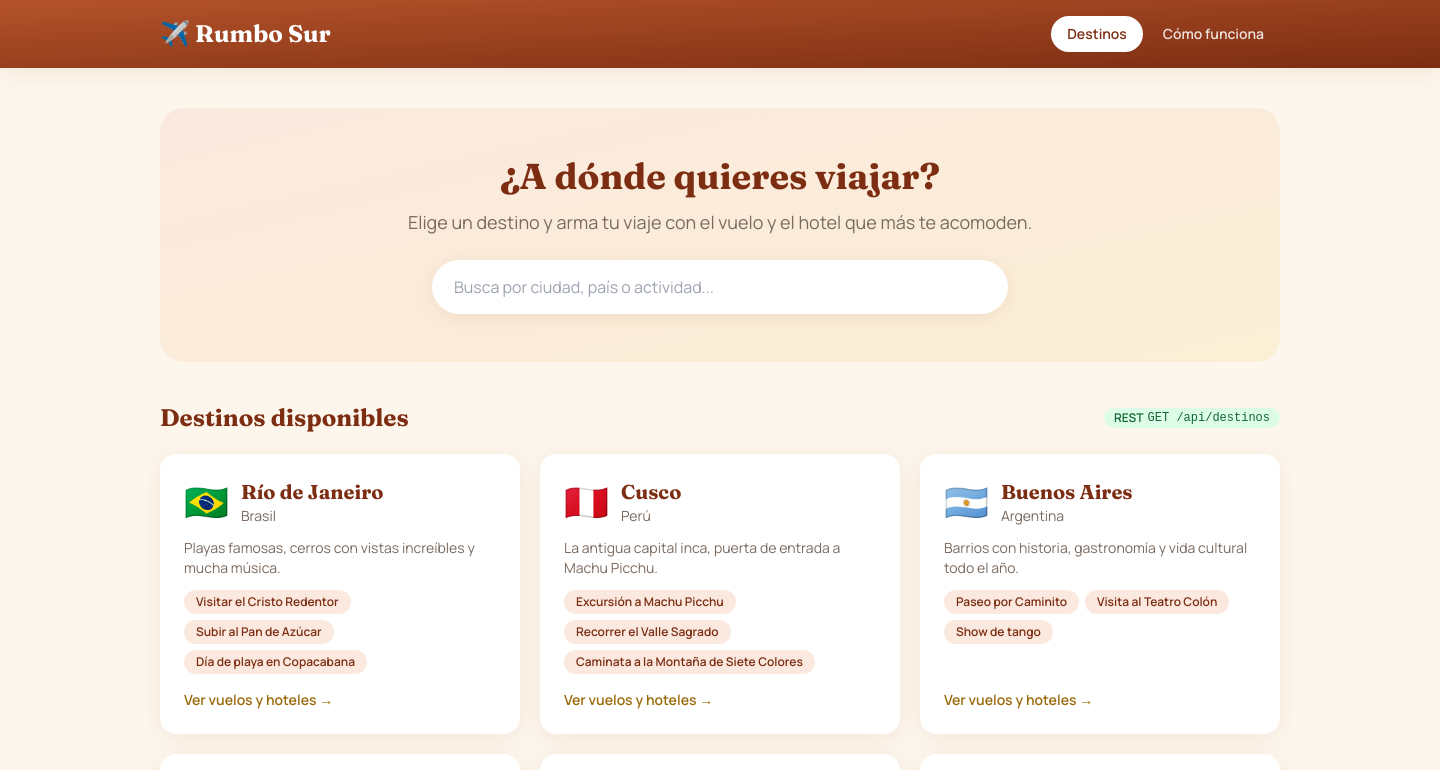
Scenario: Página Inicio (REST) › el buscador también encuentra por actividad
The image size is (1440, 770).
Check: the heading "Cusco" is shown, box [621,478,681,506]
Type "tango" into the search field named "Buscar destinos" at (720, 287), box [432,260,1008,314]
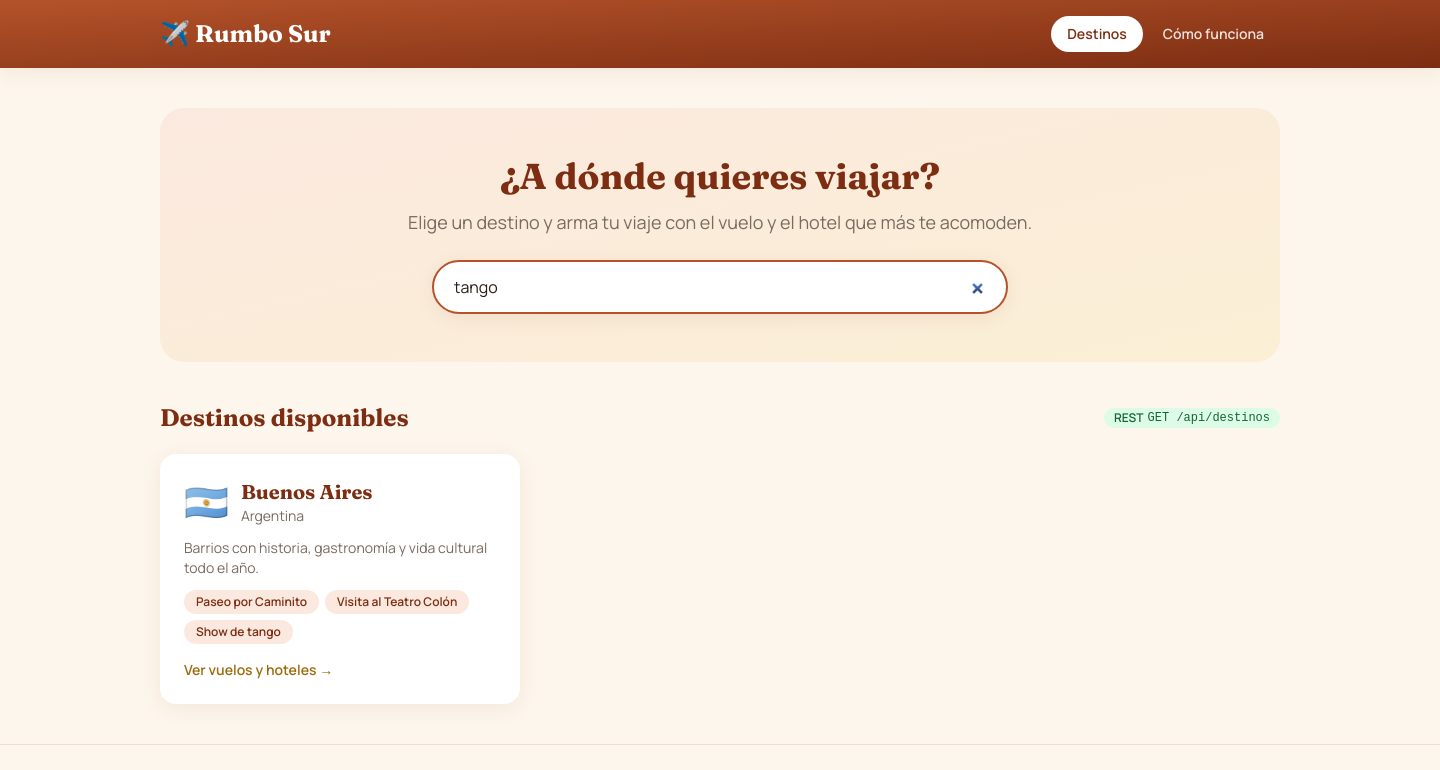
Check: the heading "Buenos Aires" is shown, box [241,478,372,506]
Check: the number of links named "Ver vuelos y hoteles" is 1, box [160,454,520,704]
